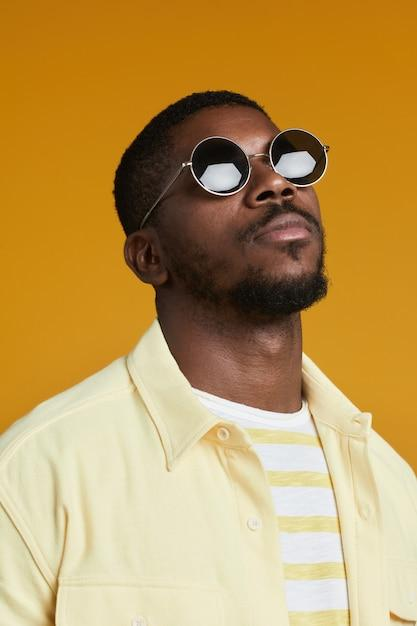sunglasses: (165, 117, 337, 200)
